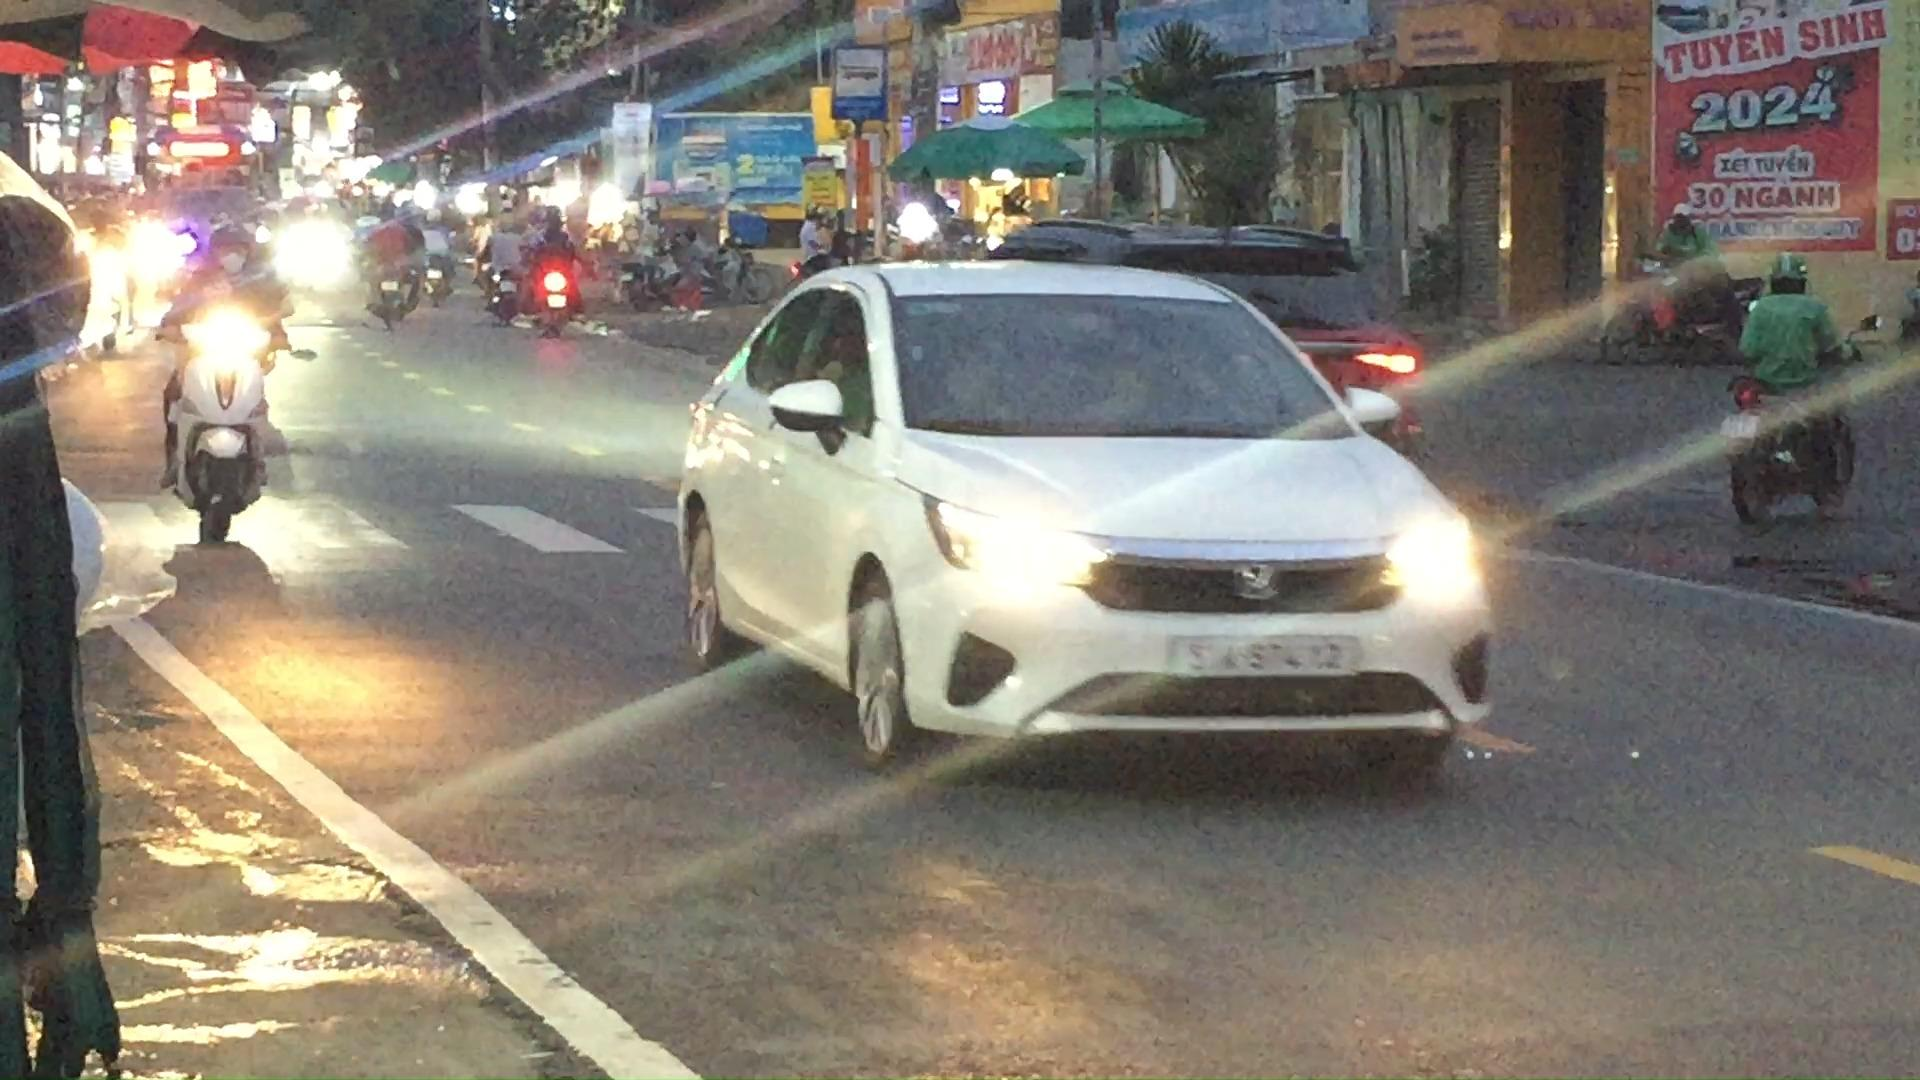bien_so: (1162, 631, 1363, 682)
